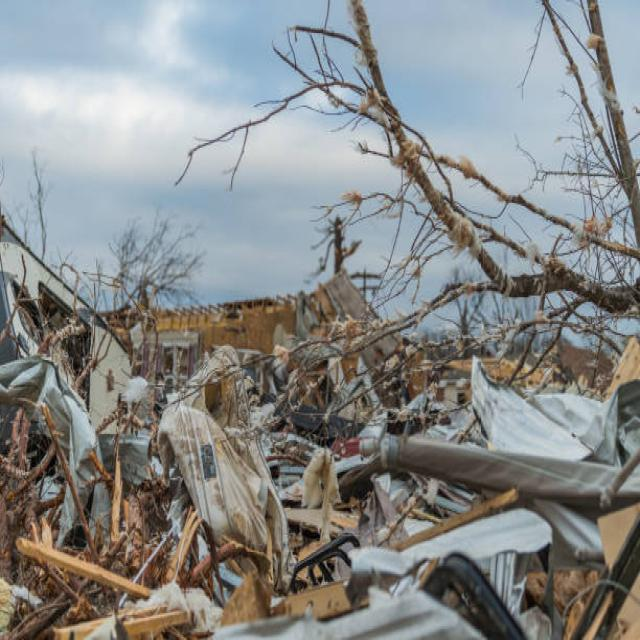metal: (286, 530, 358, 593)
